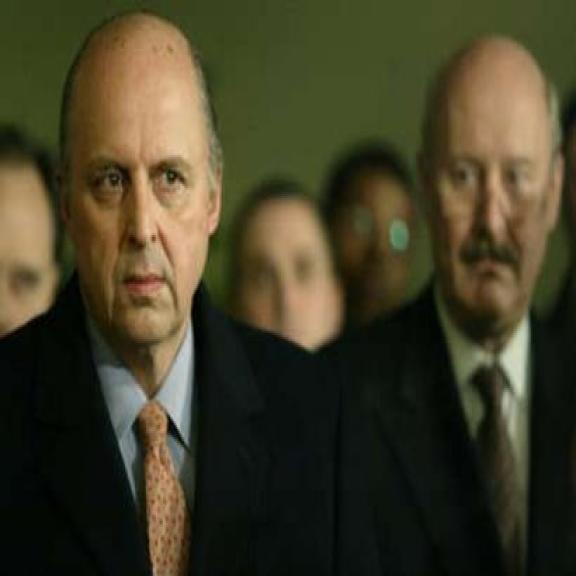face: (52, 77, 228, 343), (427, 77, 566, 332), (232, 205, 350, 373), (334, 172, 426, 320)
